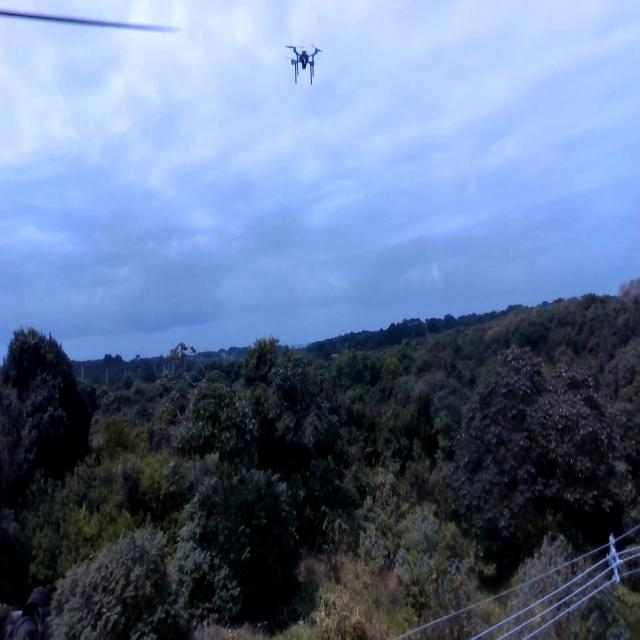-uav-: (282, 32, 328, 89)
